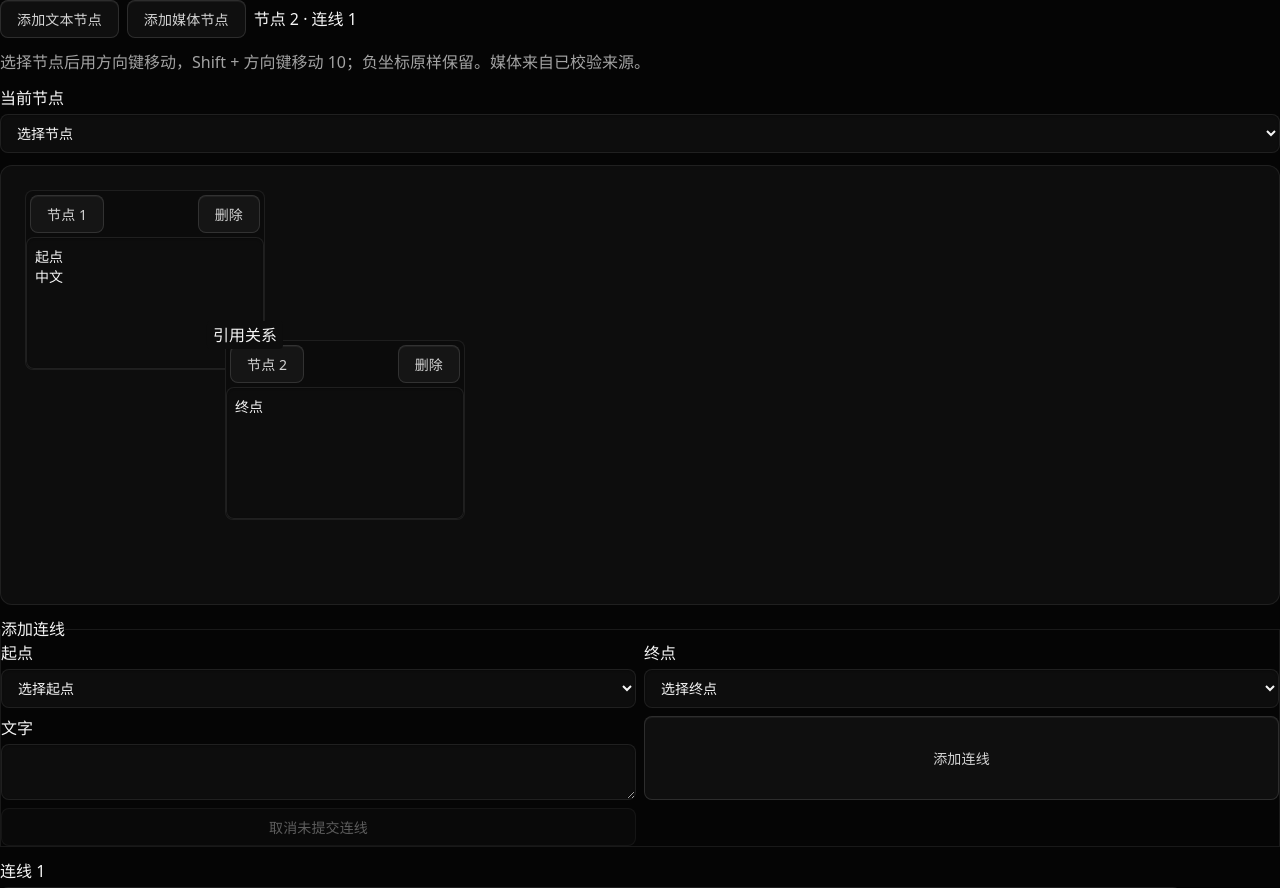
Test: CanonicalExpressionBoard › reports media read failure without inventing preview content
Click the button "添加媒体节点" at coordinates (186, 19), box [127,0,246,38]
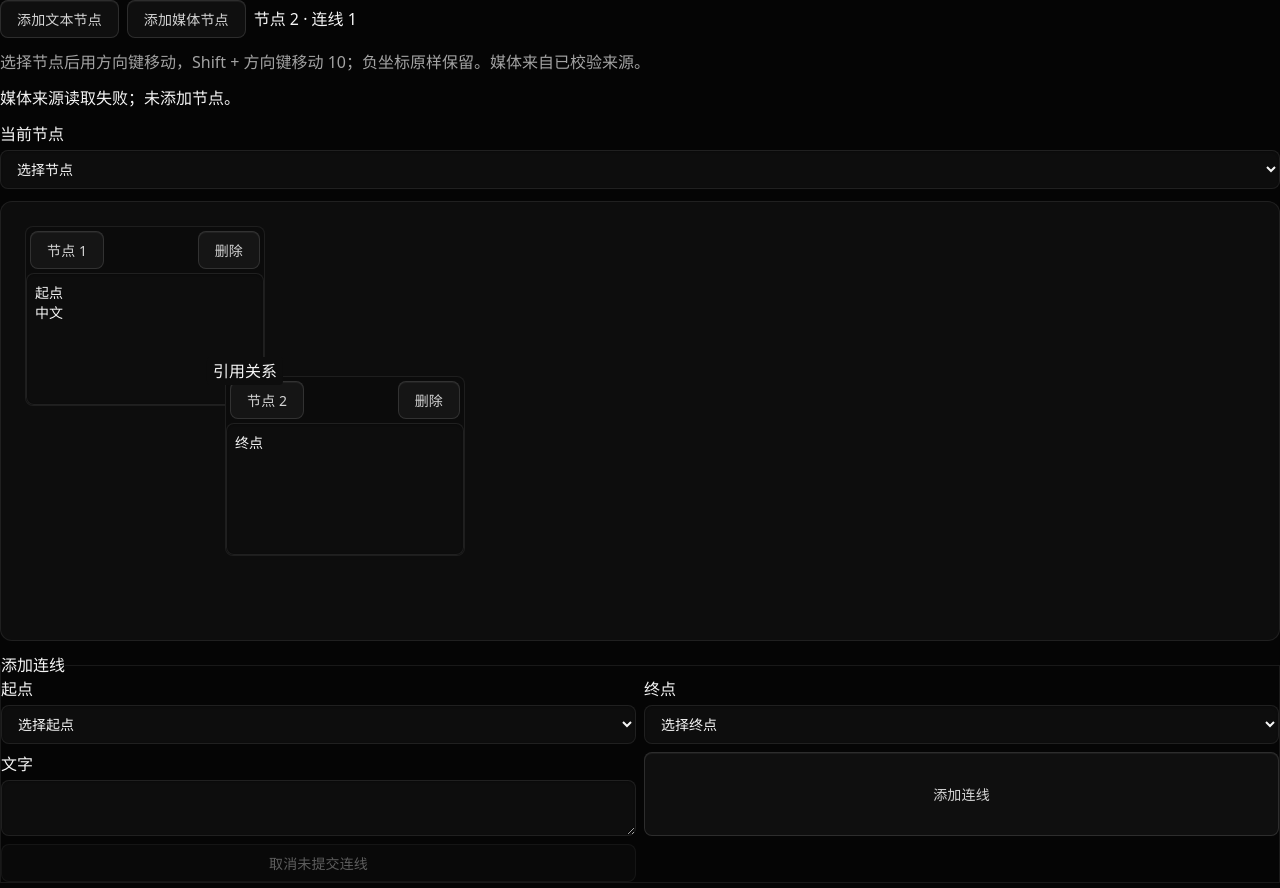
Now the message shows "读取失败", box [0,87,240,109]
